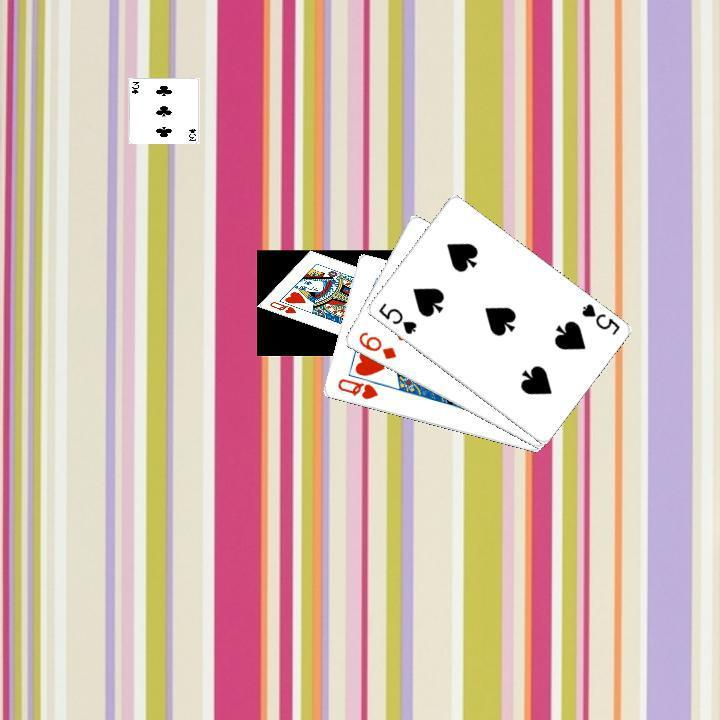5: (374, 299, 418, 337), (577, 299, 621, 337)
6: (354, 327, 398, 362)
Q: (333, 374, 379, 402)
